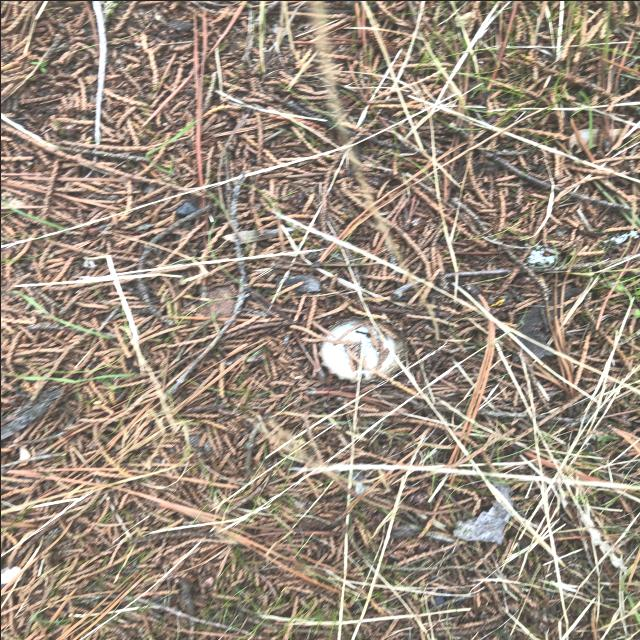Metal bottle cap: (317, 315, 405, 382)
